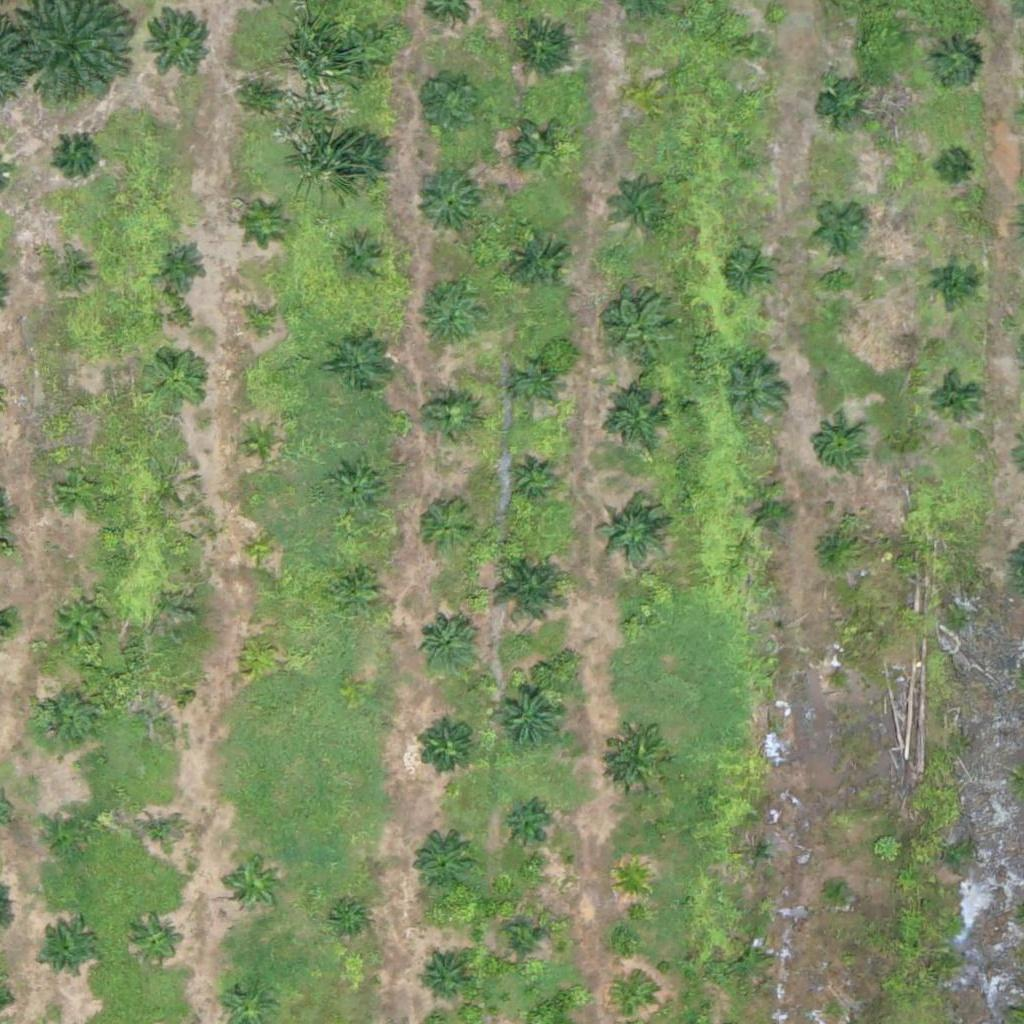Kelapa_Sawit: (487, 546, 574, 634), (595, 497, 670, 573), (409, 67, 484, 143), (490, 677, 565, 752), (141, 3, 216, 78), (413, 495, 476, 558), (418, 288, 481, 351), (416, 612, 479, 675), (724, 361, 787, 424), (607, 729, 670, 792), (32, 686, 95, 749), (331, 331, 394, 394), (222, 854, 285, 917), (327, 461, 390, 524), (332, 131, 395, 194), (511, 15, 574, 78), (37, 922, 99, 985), (417, 172, 479, 235), (410, 832, 472, 895), (414, 715, 476, 778), (507, 232, 569, 295), (607, 389, 669, 452), (609, 299, 672, 361), (615, 177, 677, 240), (50, 589, 112, 652), (146, 349, 208, 412), (131, 915, 181, 966), (416, 953, 466, 1004), (927, 374, 977, 425), (336, 235, 386, 286), (927, 35, 977, 86), (745, 487, 795, 538), (807, 522, 857, 573), (343, 29, 393, 80), (135, 809, 185, 860), (47, 807, 97, 858), (425, 394, 475, 444), (497, 803, 547, 853), (929, 257, 979, 307), (817, 202, 867, 252), (517, 124, 567, 174), (724, 245, 774, 295), (812, 420, 862, 470), (330, 562, 380, 612), (819, 82, 869, 132), (498, 917, 548, 967), (156, 240, 206, 290), (56, 465, 106, 515), (506, 455, 555, 506), (250, 205, 288, 243), (57, 133, 95, 171), (613, 860, 651, 898), (615, 982, 653, 1020), (731, 940, 769, 978), (243, 306, 281, 344), (241, 425, 279, 463), (243, 532, 281, 570), (239, 632, 277, 670), (330, 903, 368, 941), (516, 364, 553, 402), (740, 834, 777, 872), (51, 257, 88, 295), (63, 386, 100, 424), (146, 684, 183, 722), (245, 77, 282, 114), (939, 154, 964, 179), (738, 147, 763, 172), (738, 31, 763, 56), (633, 85, 658, 110), (825, 874, 850, 899), (822, 665, 847, 690), (623, 612, 648, 637)
